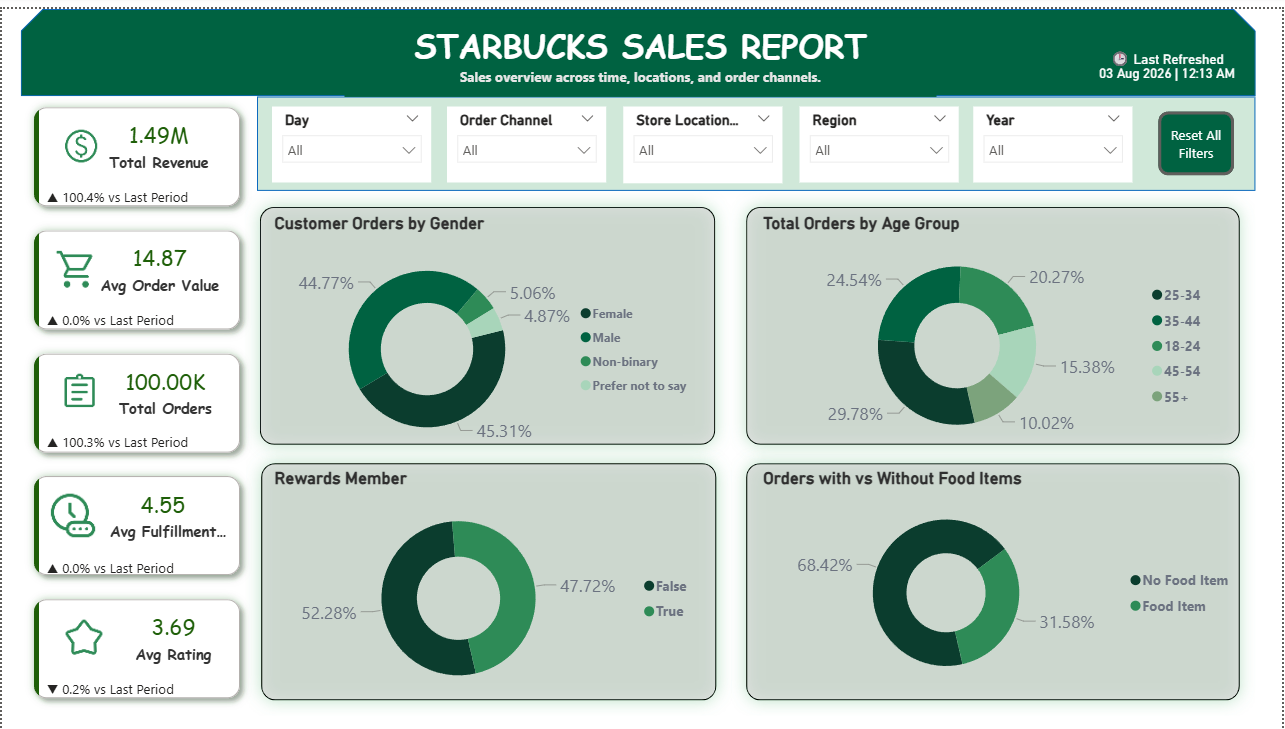

The dashboard page shown, as its layout file describes it:
{"tool":"powerbi","page":{"name":"CUSTOMER ANALYTICS","canvas":[1280,720],"ordinal":1},"visuals":[{"type":"shape","box":[255.3,87.7,998.4,94.4],"z":0},{"type":"shape","box":[18.6,0,1234.9,87.2],"z":1000},{"type":"textbox","box":[343,8.1,591.9,79.1],"z":2000},{"type":"slicer","fields":{"Values":["STARBUCKS.order_channel"]},"box":[445.4,97,159.5,75.8],"z":3000},{"type":"slicer","title":"Days","fields":{"Values":["STARBUCKS.day_of_week"]},"box":[269.9,97,159.5,75.8],"z":4000},{"type":"slicer","fields":{"Values":["STARBUCKS.store_location_type"]},"box":[621,97,159.5,77.1],"z":5000},{"type":"slicer","fields":{"Values":["STARBUCKS.region"]},"box":[797,97,159.5,75.8],"z":6000},{"type":"actionButton","title":"Reset Filters","box":[1156.6,102.4,75.8,63.8],"z":7000},{"type":"slicer","fields":{"Values":["Calendar.Year"]},"box":[971.8,97.1,159.5,75.8],"z":8000},{"type":"shape","box":[243,182.6,486,268.6],"z":9000},{"type":"shape","box":[244.2,438.4,486,268],"z":10000},{"type":"shape","box":[729.1,182.6,524.4,268.6],"z":11000},{"type":"shape","box":[729.1,438.4,524.4,268],"z":12000},{"type":"donutChart","title":"Customer Orders by Gender","fields":{"Category":["STARBUCKS.customer_gender"],"Y":["MEASURE_Table.Total Orders"]},"box":[267.4,203.5,431.4,247.7],"z":13000},{"type":"donutChart","title":"Total Orders by Age Group","fields":{"Category":["STARBUCKS.customer_age_group"],"Y":["CountNonNull(STARBUCKS.is_rewards_member)"]},"box":[755.8,203.5,457,240.7],"z":14000},{"type":"pieChart","title":"Rewards Member","fields":{"Y":["MEASURE_Table.Total Orders"],"Category":["STARBUCKS.is_rewards_member"]},"box":[267.4,459.3,431.4,236],"z":15000},{"type":"donutChart","title":"Orders with vs Without Food Items","fields":{"Category":["STARBUCKS.has_food_item"],"Y":["MEASURE_Table.Total Orders"]},"box":[756.2,458.8,485,225],"z":16000},{"type":"cardVisual","fields":{"Data":["MEASURE_Table.TOTAL_REVENUE","MEASURE_Table.Avg_order_val","MEASURE_Table.Total_orders","MEASURE_Table.Avg Fullfillment time","MEASURE_Table.Avg Rating"]},"box":[0,86.2,270,618.8],"z":17000},{"type":"card","fields":{"Values":["Min(last.Last Refresh)"]},"box":[1087.5,31.2,155,55],"z":17001}]}

Visuals, with their boxes in screenshot pixels (x1, y1, x2, y2), scaled from the page's 1280x720 canvas onto the 1285x729 screenshot:
shape: [256, 89, 1259, 184]
shape: [19, 0, 1258, 88]
textbox: [344, 8, 939, 88]
slicer - STARBUCKS.order_channel: [447, 98, 607, 175]
"Days" slicer: [271, 98, 431, 175]
slicer - STARBUCKS.store_location_type: [623, 98, 784, 176]
slicer - STARBUCKS.region: [800, 98, 960, 175]
"Reset Filters" actionButton: [1161, 104, 1237, 168]
slicer - Calendar.Year: [976, 98, 1136, 175]
shape: [244, 185, 732, 457]
shape: [245, 444, 733, 715]
shape: [732, 185, 1258, 457]
shape: [732, 444, 1258, 715]
"Customer Orders by Gender" donutChart: [268, 206, 702, 457]
"Total Orders by Age Group" donutChart: [759, 206, 1218, 450]
"Rewards Member" pieChart: [268, 465, 702, 704]
"Orders with vs Without Food Items" donutChart: [759, 465, 1246, 692]
cardVisual - MEASURE_Table.TOTAL_REVENUE x MEASURE_Table.Avg_order_val: [0, 87, 271, 714]
card - Min(last.Last Refresh): [1092, 32, 1247, 87]
